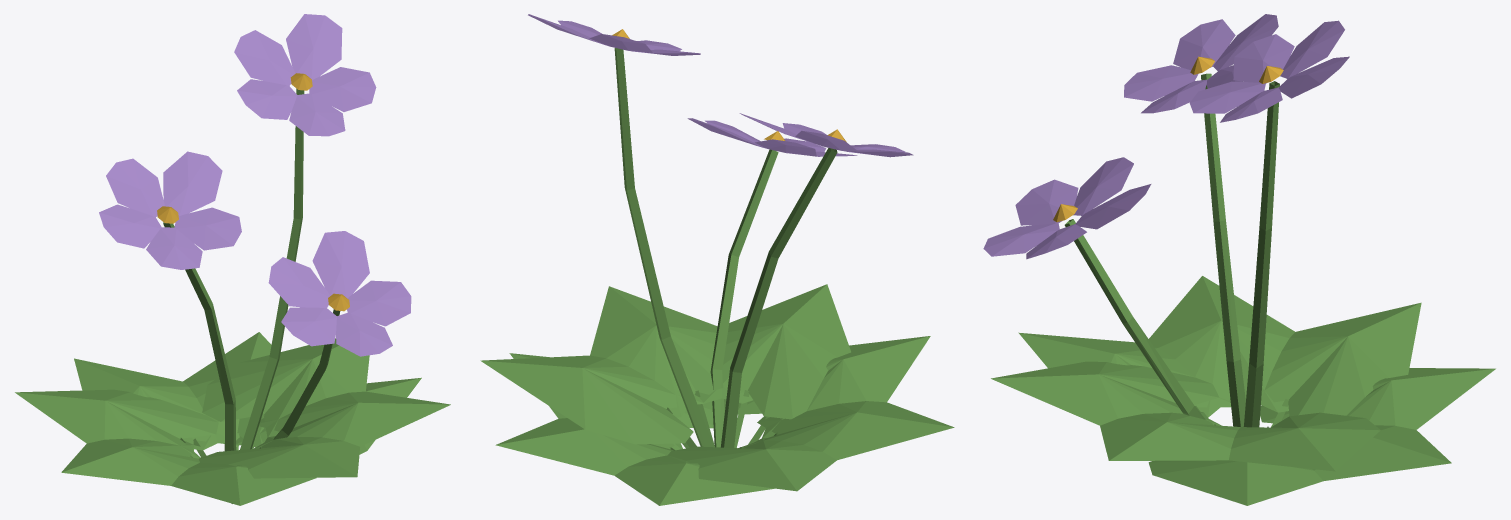
Rendered from flower_violet.glb.
3 renders of one model, left to right at view 1: azimuth 30°, elevation 25°; view 2: azimuth 150°, elevation 25°; view 3: azimuth 270°, elevation 25°, orthographic. The views are drawn at different scales.
Parts seen in each view (by area): view 1: flower_violet; view 2: flower_violet; view 3: flower_violet.
Part boxes in pixels (x1,y1,x2,y2): flower_violet: [15, 14, 450, 505]; flower_violet: [480, 14, 954, 505]; flower_violet: [983, 14, 1495, 505].
Size of the model in its own units: 0.1866 by 0.2 by 0.1869.
